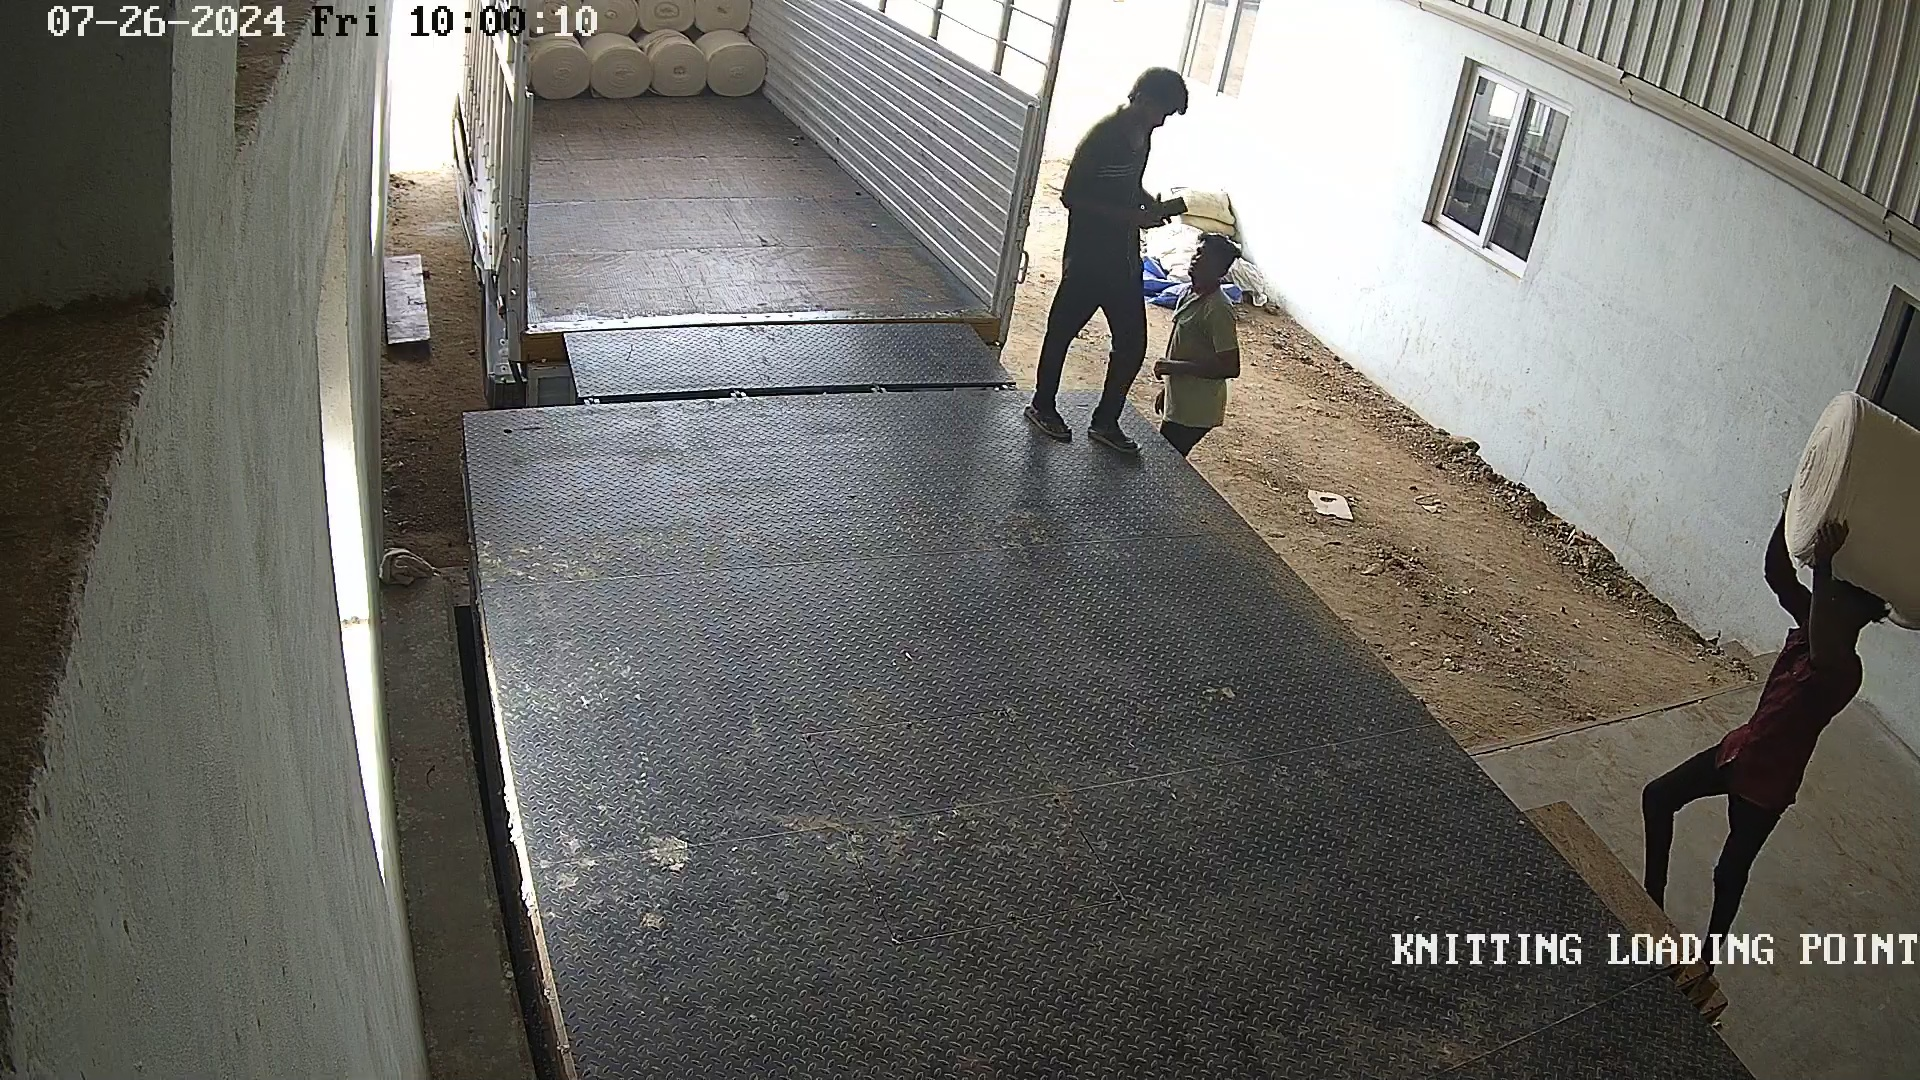bag: (1776, 388, 1920, 617)
